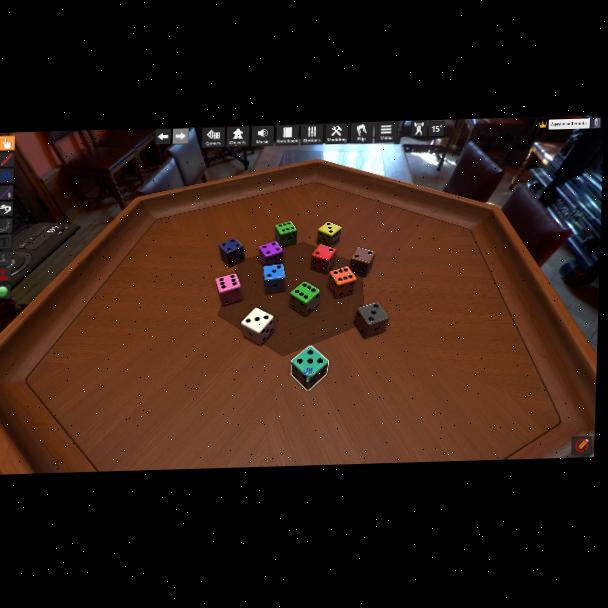d6: (290, 345, 328, 390), (239, 307, 275, 346), (354, 301, 388, 338), (289, 281, 318, 316), (327, 266, 357, 299), (216, 274, 243, 308), (348, 247, 375, 279), (218, 238, 246, 268), (310, 244, 336, 275), (263, 263, 286, 294), (258, 241, 284, 267), (316, 222, 341, 248), (274, 221, 297, 248)
